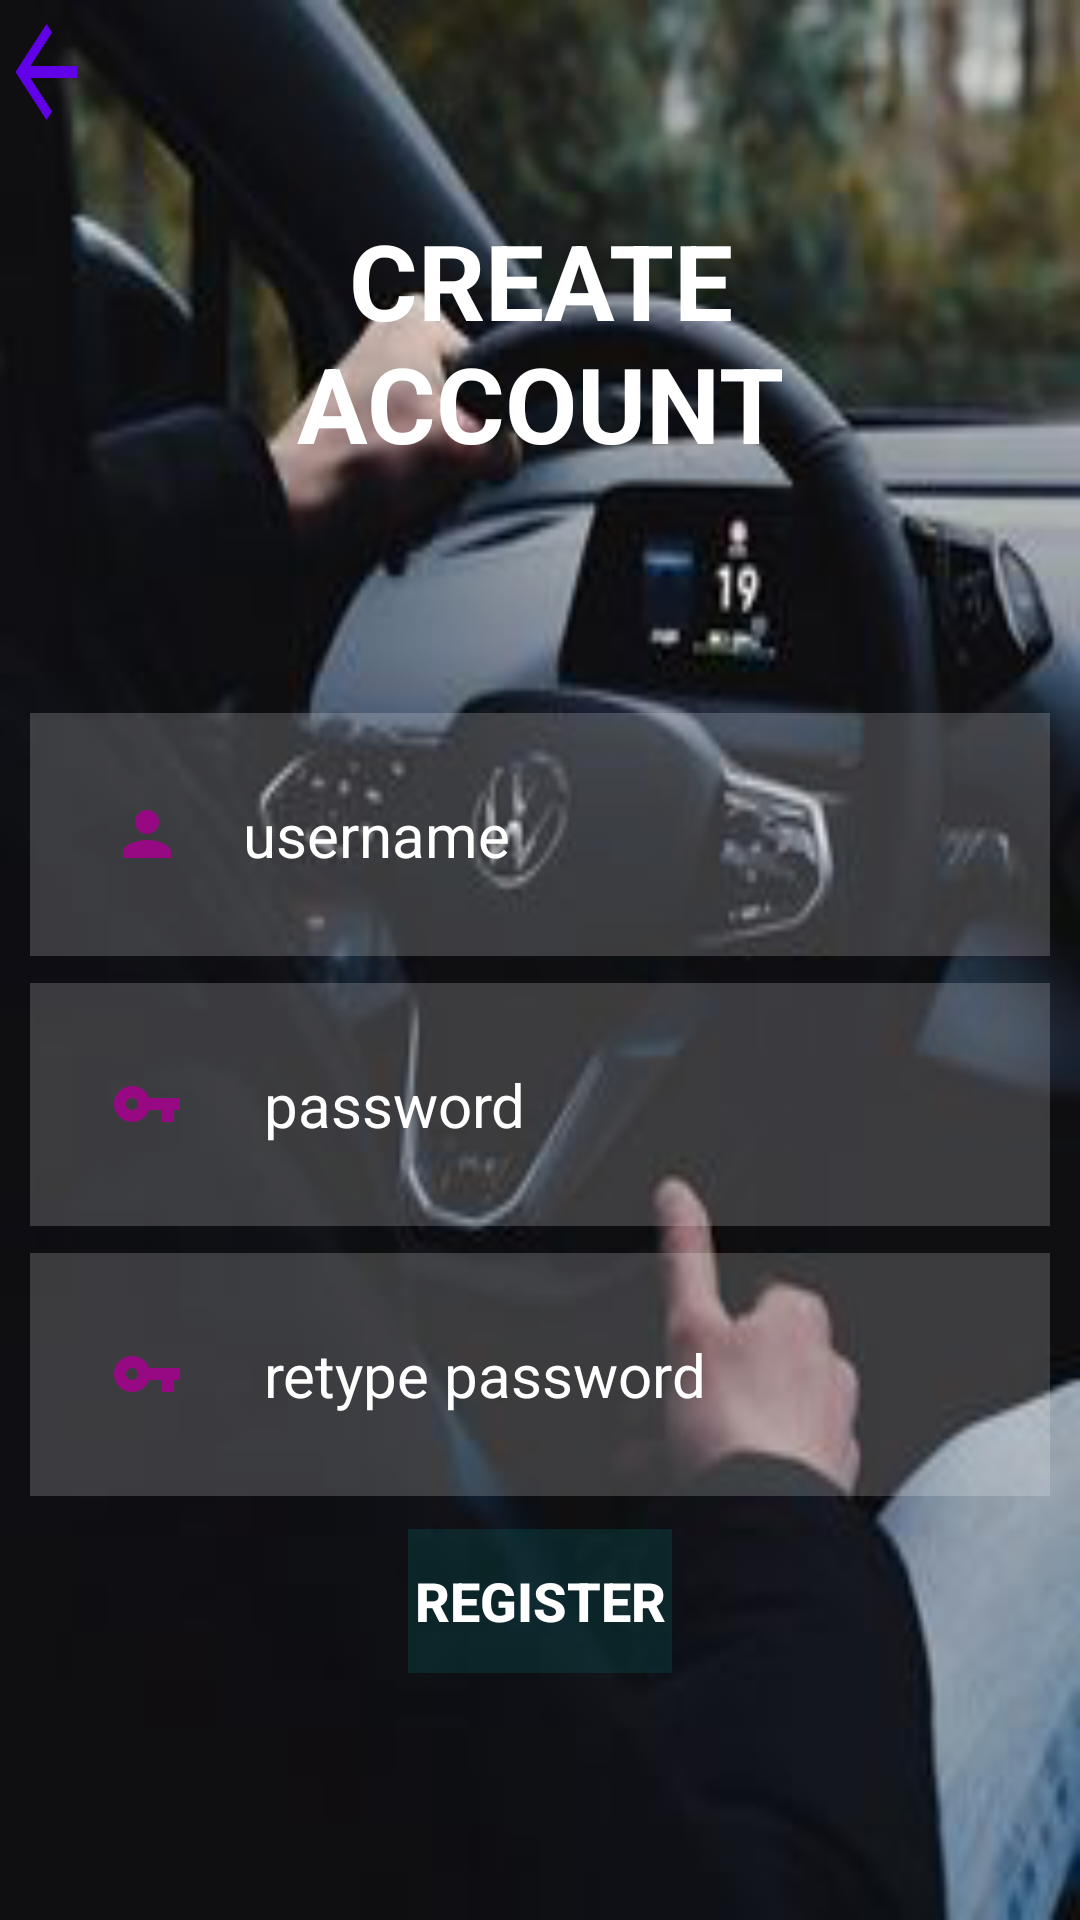

Where to tap for icons on this 1080 x 1920 app screen, as (x=x, y=y):
arrow back: (x=54, y=84)
